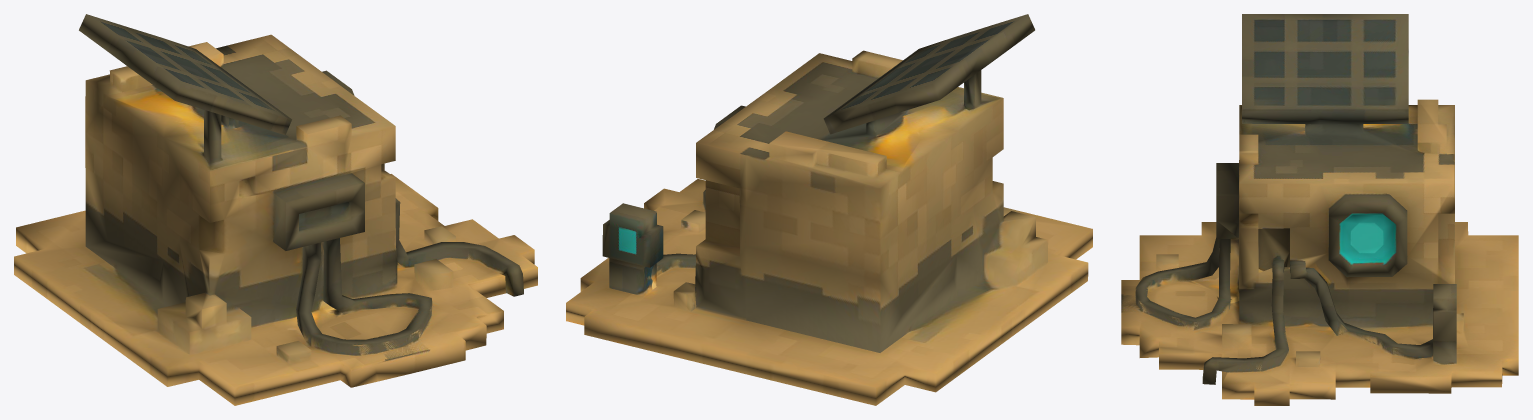
File: solar_base.fbx
3 views of the same model, side by side, from view 1: azimuth 30°, elevation 25°; view 2: azimuth 150°, elevation 25°; view 3: azimuth 270°, elevation 25° (orthographic). The views are drawn at different scales.
Parts seen in each view (by area): view 1: tripo_node_88c600e8; view 2: tripo_node_88c600e8; view 3: tripo_node_88c600e8.
Boxes of the visible parts, left/top/right/bottom form: tripo_node_88c600e8: left=14, top=14, right=537, bottom=405; tripo_node_88c600e8: left=566, top=14, right=1092, bottom=405; tripo_node_88c600e8: left=1121, top=14, right=1518, bottom=405.
Size of the model in its own units: 0.9993 by 0.669 by 0.999.
1 material, 1 textured.
